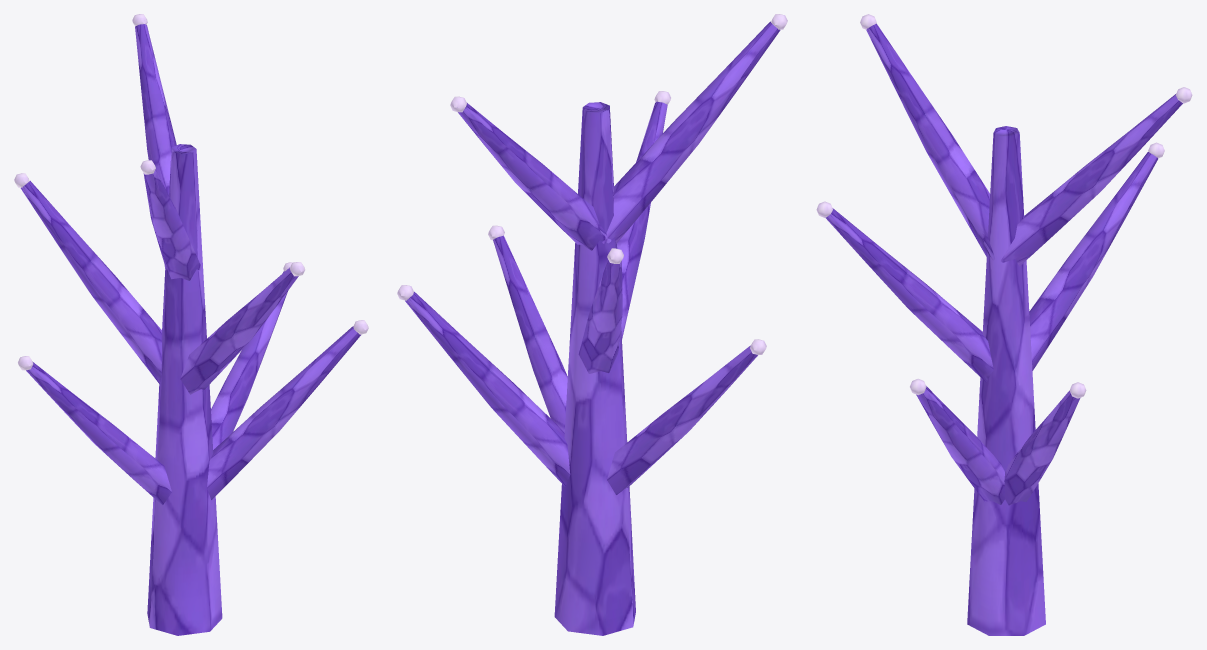
The model's file is alien_crystal_coral.glb.
3 renders of one model, left to right at view 1: azimuth 30°, elevation 25°; view 2: azimuth 150°, elevation 25°; view 3: azimuth 270°, elevation 25°, orthographic. The views are drawn at different scales.
Bounding box in the file's own units: 0.6879 × 1.13 × 0.697.
1 material, 1 textured.
